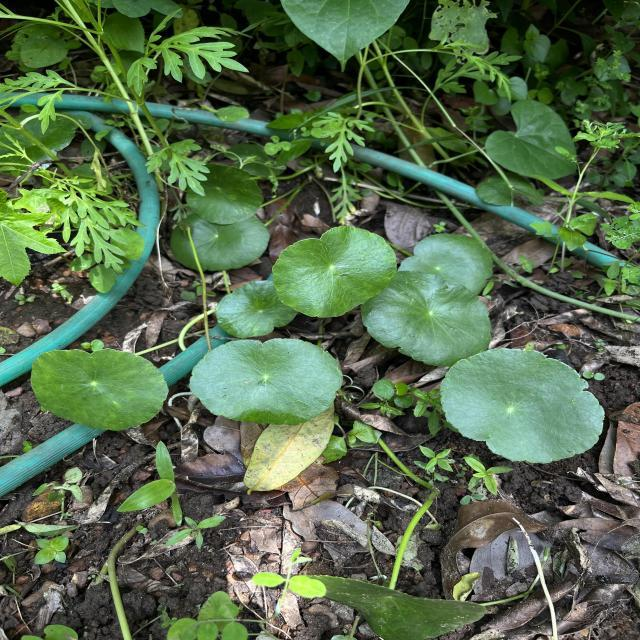Bacopa monnieri: (438, 347, 607, 465), (188, 336, 346, 428), (359, 268, 494, 368), (28, 346, 172, 433), (270, 223, 398, 320), (168, 212, 272, 273), (398, 232, 494, 297), (214, 278, 302, 340)
